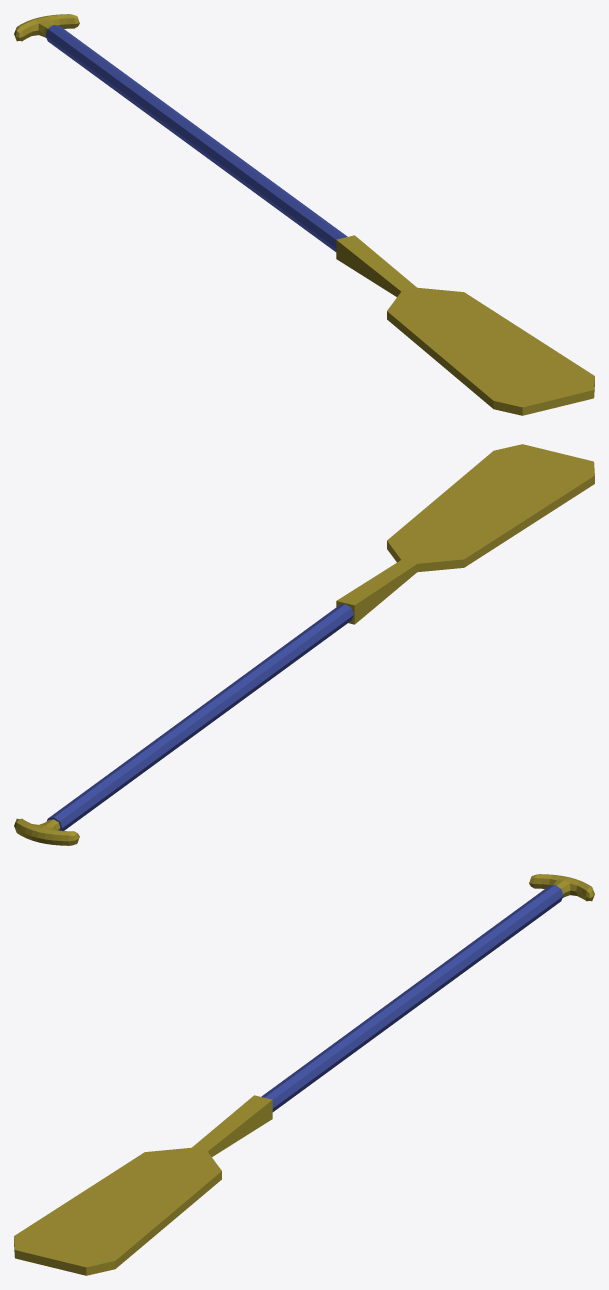
Rendered from Raft_Paddle.glb.
3 renders of one model, top to bottom at view 1: azimuth 30°, elevation 25°; view 2: azimuth 150°, elevation 25°; view 3: azimuth 330°, elevation 25°, orthographic.
Parts seen in each view (by area): view 1: BrightYellow, Blue; view 2: BrightYellow, Blue; view 3: BrightYellow, Blue.
Part boxes in pixels (x1=…): BrightYellow: x1=14, y1=14, x2=594, y2=415; Blue: x1=45, y1=25, x2=347, y2=251; BrightYellow: x1=14, y1=444, x2=594, y2=845; Blue: x1=47, y1=604, x2=353, y2=830; BrightYellow: x1=14, y1=874, x2=594, y2=1275; Blue: x1=261, y1=885, x2=563, y2=1111.
Size of the model in its own units: 1.67 by 0.3041 by 14.85.
